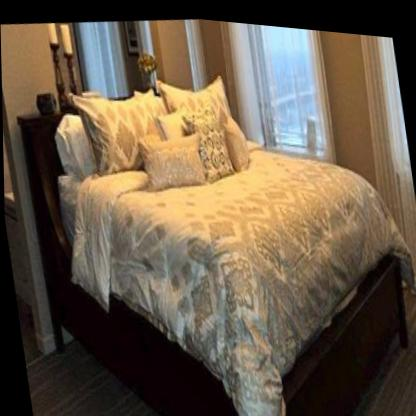Bed: (11, 38, 416, 416)
